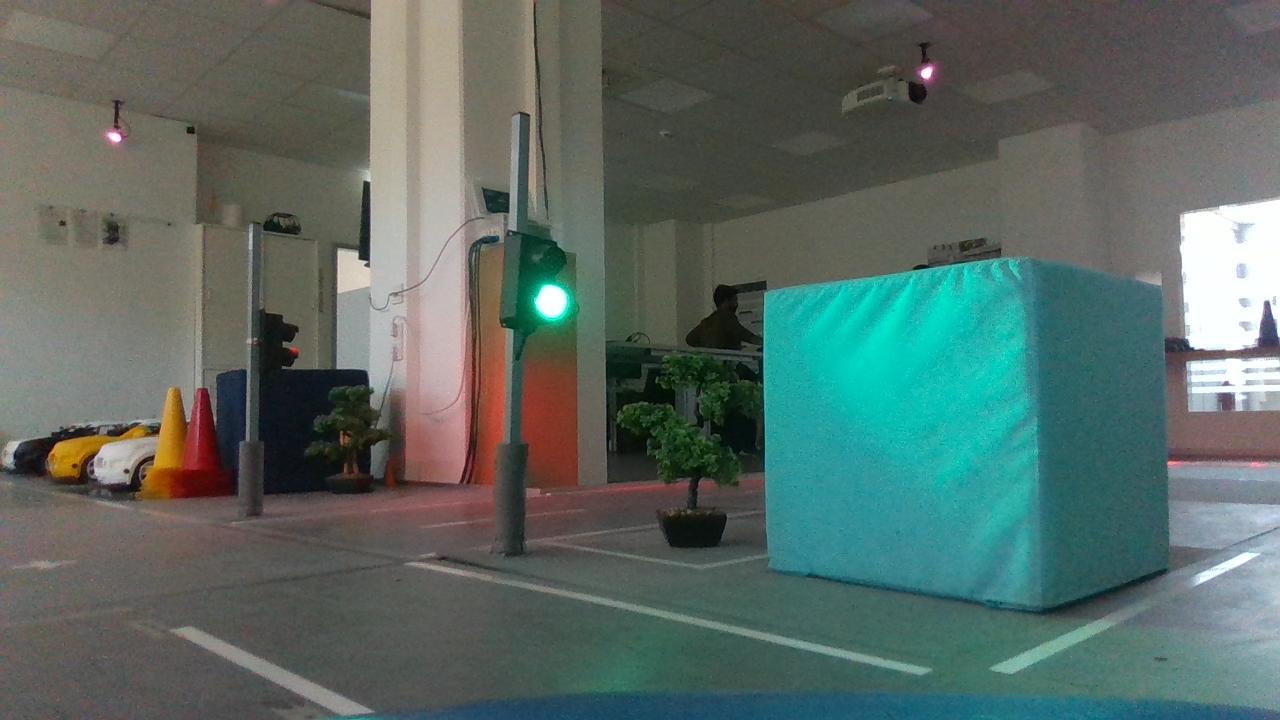traffic_light_green: (483, 220, 579, 346)
